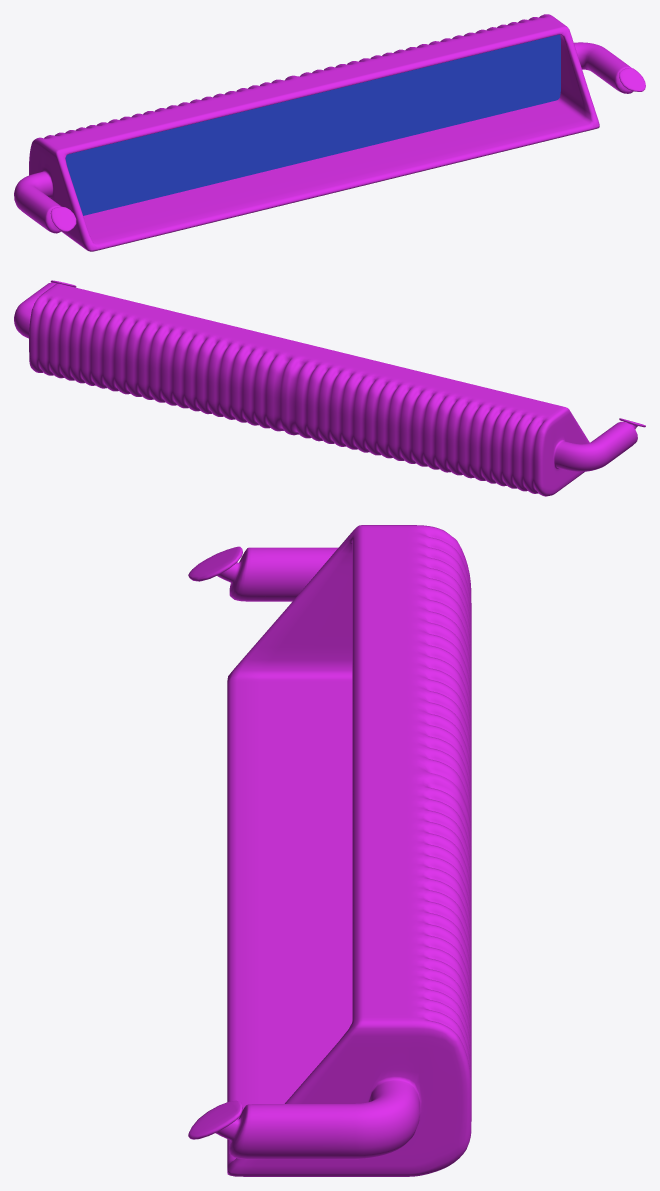
Rendered from taillight.fbx.
The picture shows the model from 3 angles, top to bottom: view 1: azimuth 30°, elevation 25°; view 2: azimuth 150°, elevation 25°; view 3: azimuth 270°, elevation 25°; orthographic projection. The views are drawn at different scales.
Parts seen in each view (by area): view 1: housing, glass_on; view 2: housing; view 3: housing.
Part boxes in pixels (x1,y1,x2,y2): housing: [14, 14, 645, 251]; glass_on: [65, 34, 560, 215]; housing: [14, 280, 645, 496]; housing: [188, 525, 471, 1176].
Bounding box in the file's own units: 36.6 × 4.62 × 7.59.
